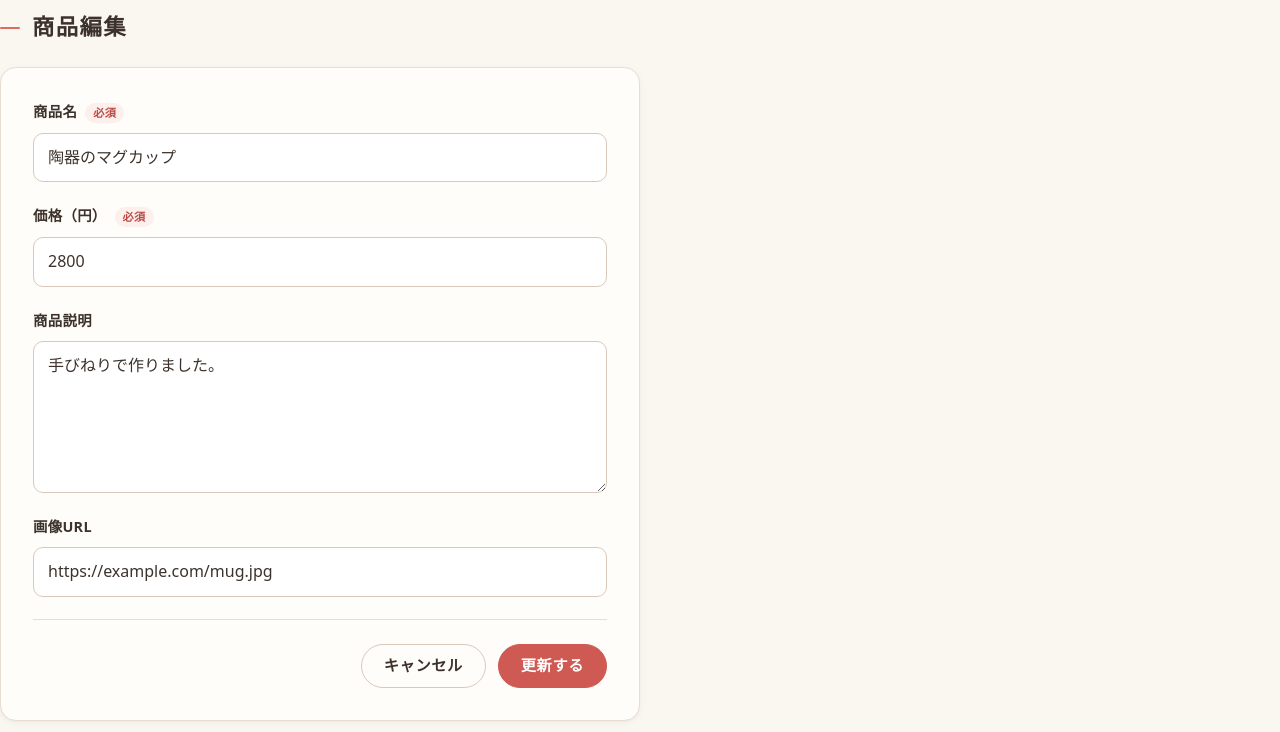
Test: 商品編集画面 › 更新時に商品が削除されていた場合（404）は、その旨を表示する
The image size is (1280, 732).
Expected: the field labelled "商品名 必須" is shown, [33, 133, 607, 182]
Click the button "更新する".
click(552, 666)  # box [498, 644, 607, 688]
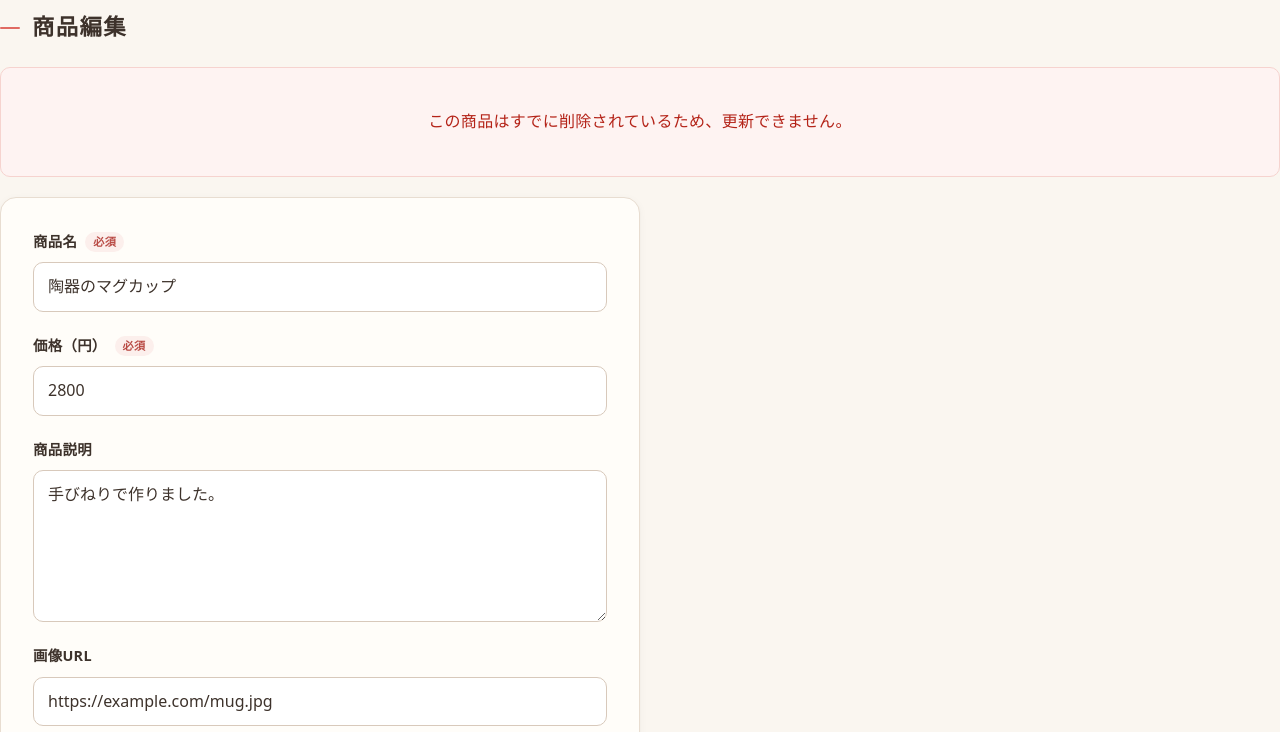
Now the text "この商品はすでに削除されているため、更新できません。" is shown, box [0, 67, 1279, 177]
